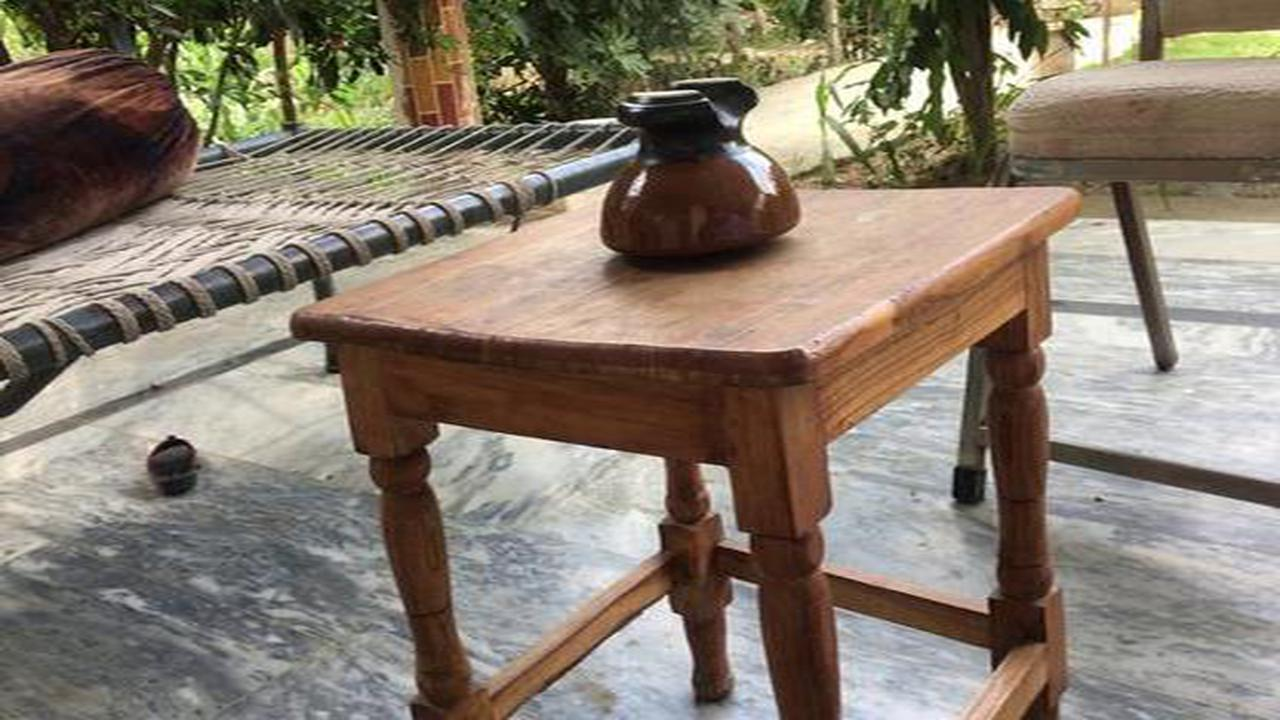insulator_pin: (591, 66, 813, 276)
